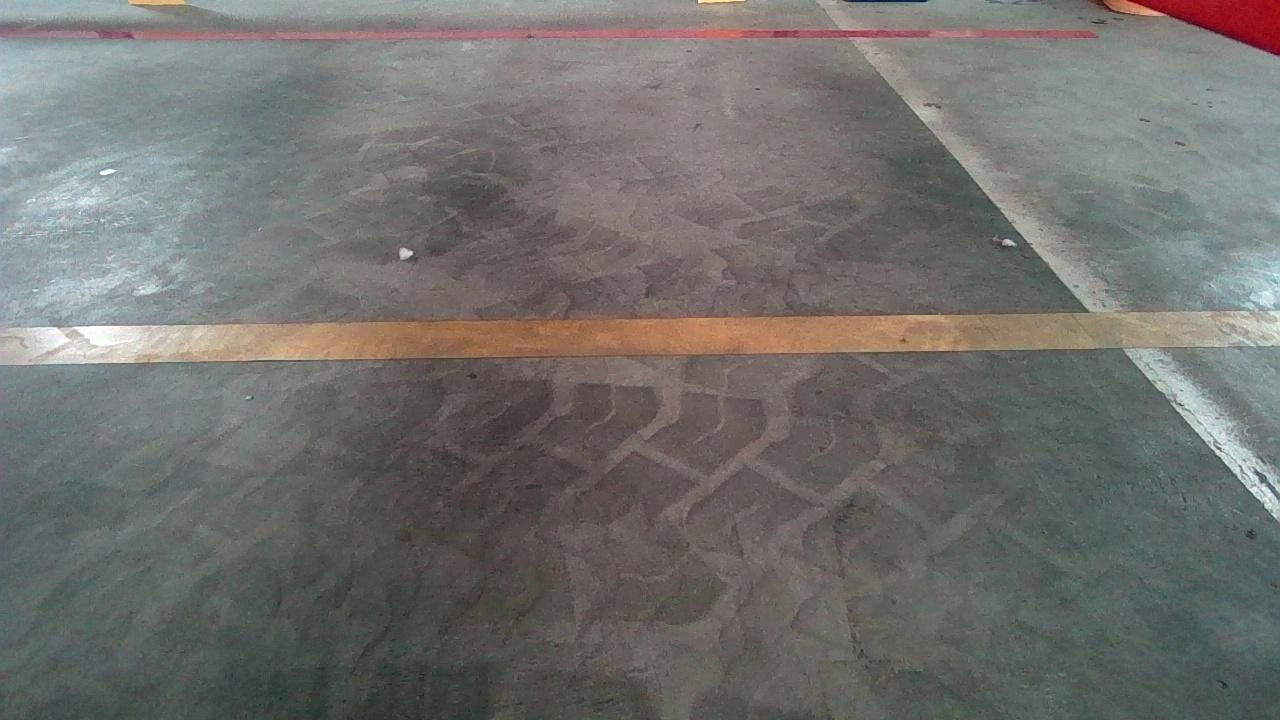red_line: (0, 29, 1093, 41)
yellow_line: (6, 305, 1280, 366)
